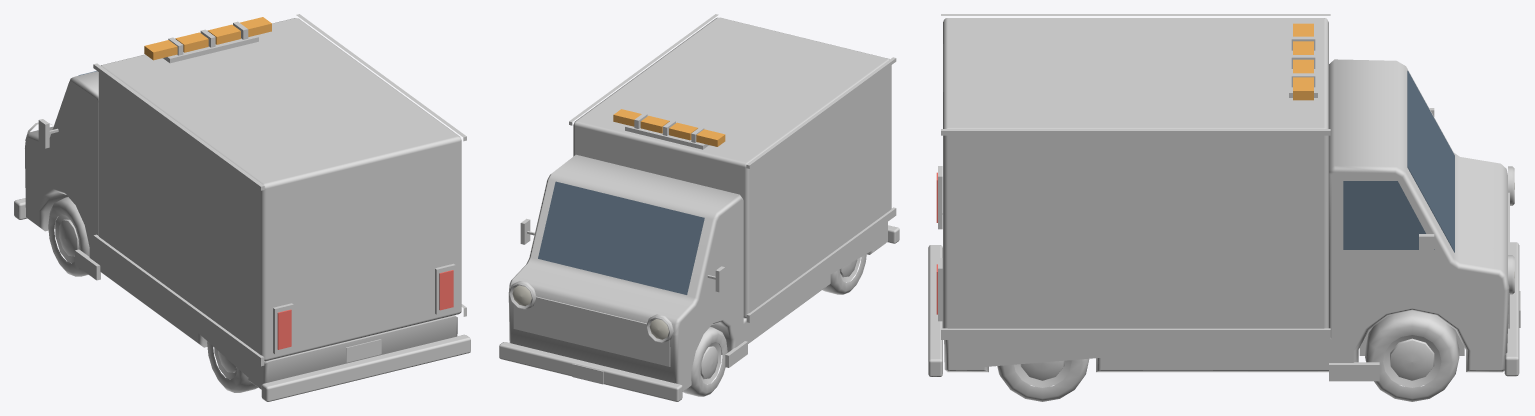
File: CityVan.glb
The picture shows the model from 3 angles, left to right: view 1: azimuth 30°, elevation 25°; view 2: azimuth 150°, elevation 25°; view 3: azimuth 270°, elevation 25°; orthographic projection. The views are drawn at different scales.
Parts seen in each view (by area): view 1: Body, Glow, Tail; view 2: Body, Glass, Glow, Lamp; view 3: Body, Glass, Glow.
Boxes of the visible parts, x1,y1,x2,y2 form: Body: [14, 14, 470, 401]; Glow: [144, 17, 271, 60]; Tail: [277, 270, 453, 349]; Body: [499, 14, 899, 401]; Glass: [538, 181, 704, 294]; Glow: [613, 109, 725, 146]; Lamp: [512, 285, 668, 339]; Body: [928, 14, 1520, 401]; Glass: [1343, 70, 1454, 252]; Glow: [1293, 23, 1313, 100].
Bounding box in the file's own units: 8.4 × 8.95 × 16.34.
